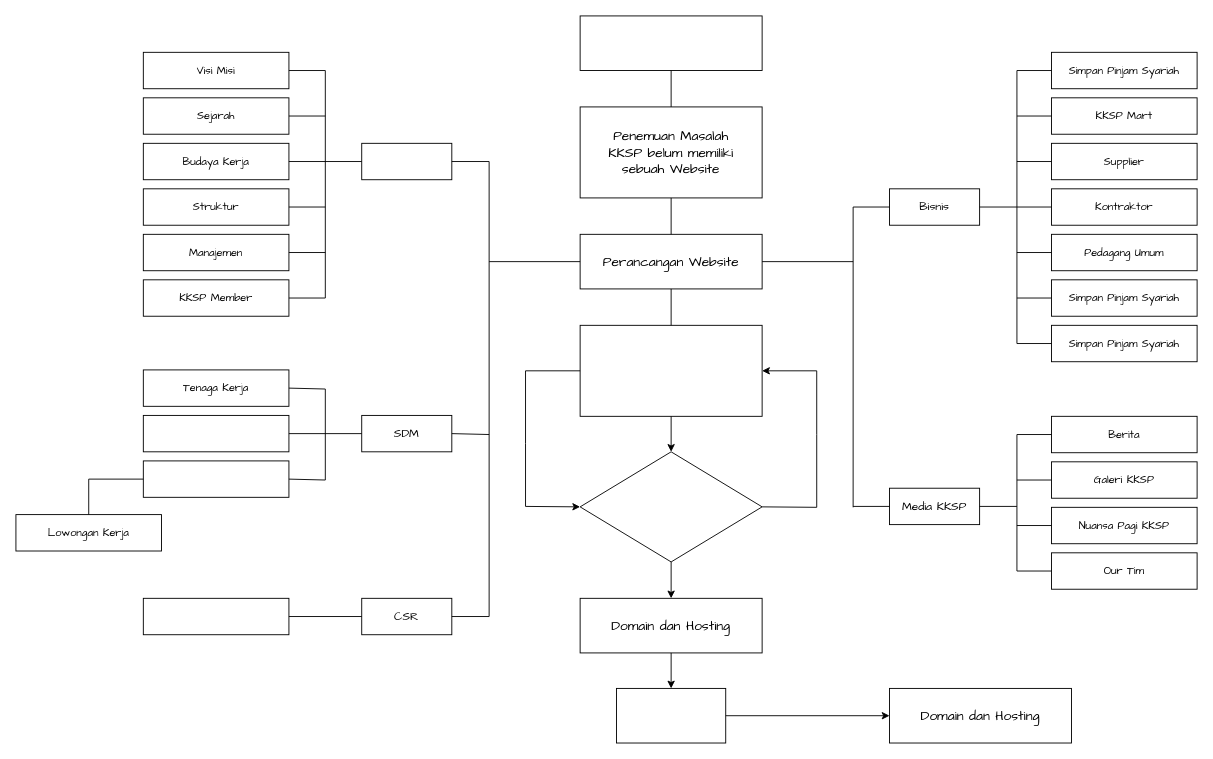
Some shapes in this 1213 by 759 pixel diagram are drawn without their labels. Each missing label, with the box of its shape:
Analisis Kebutuhan User: (579, 15, 762, 71)
Karir: (142, 460, 289, 497)
Pengkodingan : Menggunakan HTML, CSS dan SDLC: (579, 324, 762, 416)
Program CSR: (142, 597, 289, 635)
Serikat Pekerja KKSP: (142, 415, 289, 452)
Tentang Kami: (361, 142, 452, 180)
UJI COBA: (579, 451, 762, 562)
UPLOAD: (616, 688, 726, 743)
